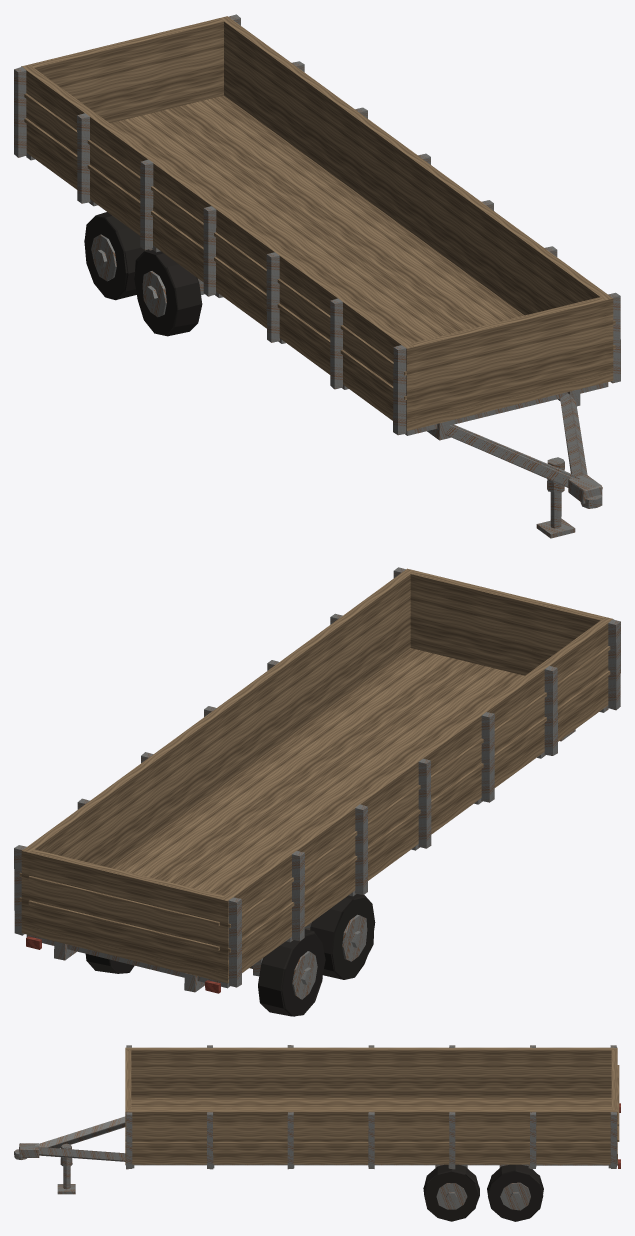
The model's file is medium_trailer.glb.
3 views of the same model, one above another, from view 1: azimuth 30°, elevation 25°; view 2: azimuth 150°, elevation 25°; view 3: azimuth 270°, elevation 25° (orthographic). The views are drawn at different scales.
Parts seen in each view (by area): view 1: MediumTrailer; view 2: MediumTrailer; view 3: MediumTrailer.
Part boxes in pixels (x1,y1,x2,y2): MediumTrailer: (14,14,620,538); MediumTrailer: (14,567,620,1016); MediumTrailer: (14,1045,620,1221).
Bounding box in the file's own units: 2.3 × 1.72 × 8.49.
Materials: 4 (3 with a texture image).
